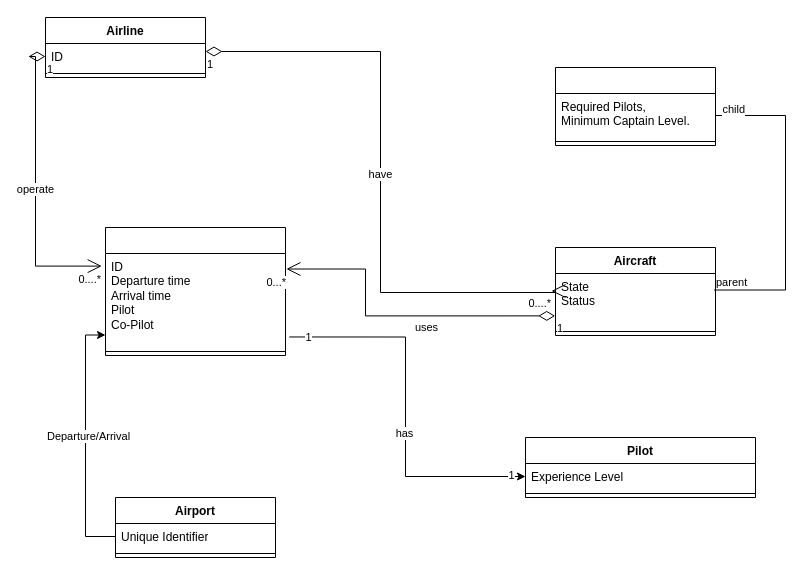
This 804x575 diagram has some shape labels left out. Here are the shapes that lost their labels. From the top down, the box of each, then its label:
(554, 66, 716, 146): Aircrafttype
(104, 226, 286, 356): Flight
